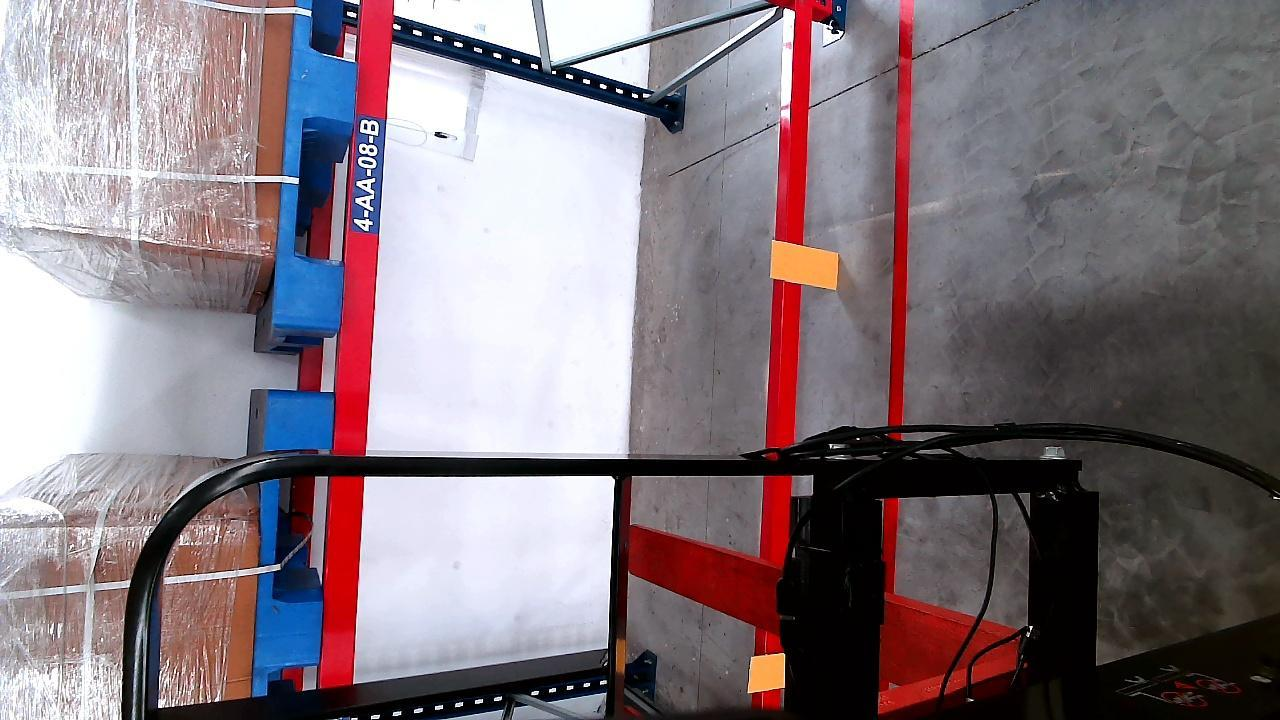red_line: (889, 10, 914, 431)
